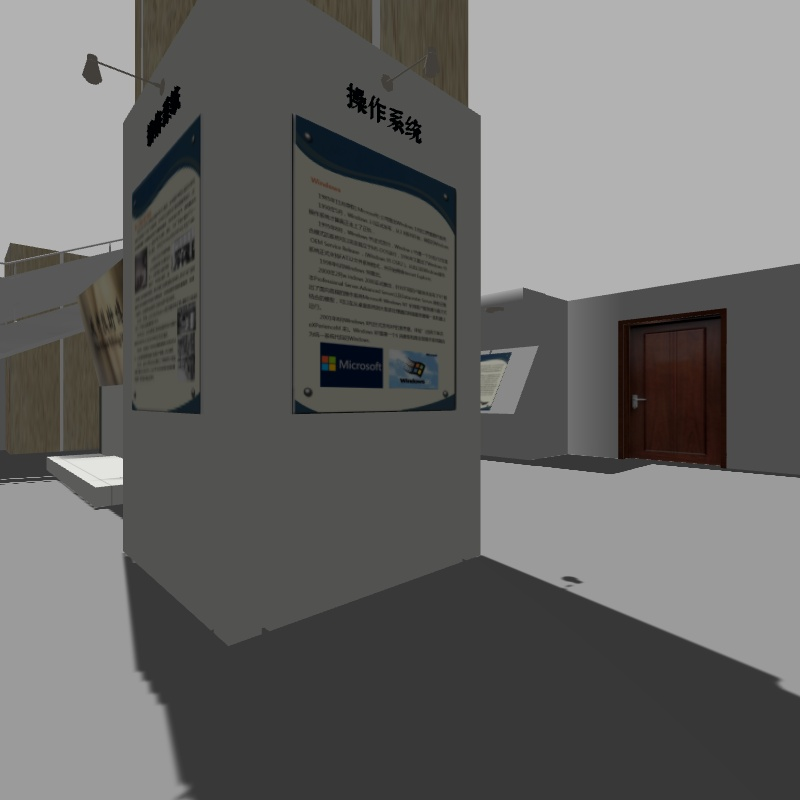handle: (624, 387, 648, 413)
